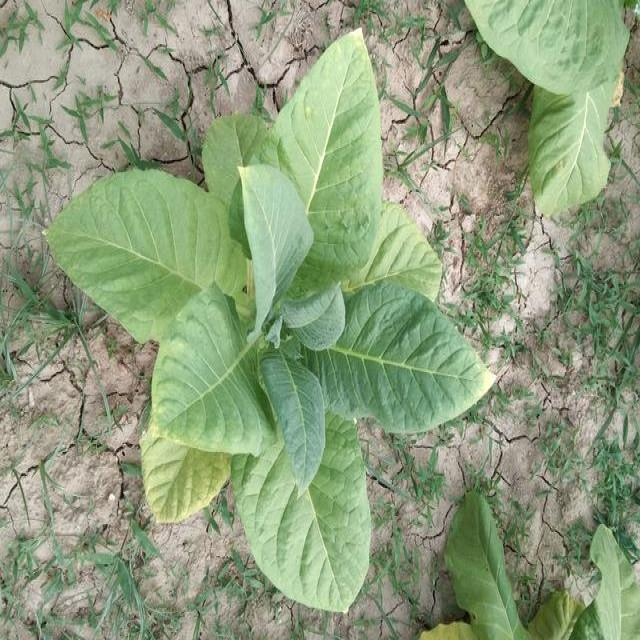crop: (56, 44, 491, 604), (464, 0, 620, 214), (453, 520, 640, 640)
